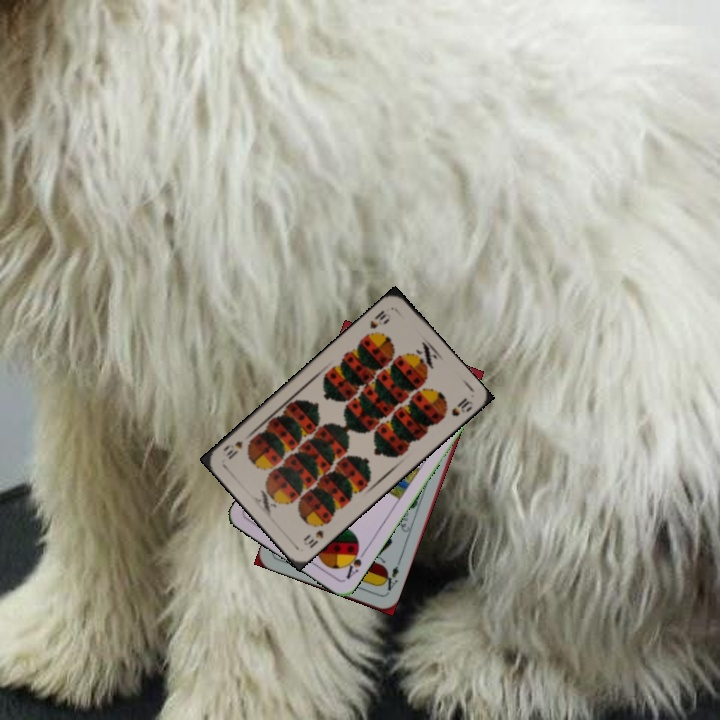EA: (378, 557, 403, 597)
S10: (299, 525, 327, 551), (366, 306, 389, 331)
SA: (340, 542, 368, 582)
